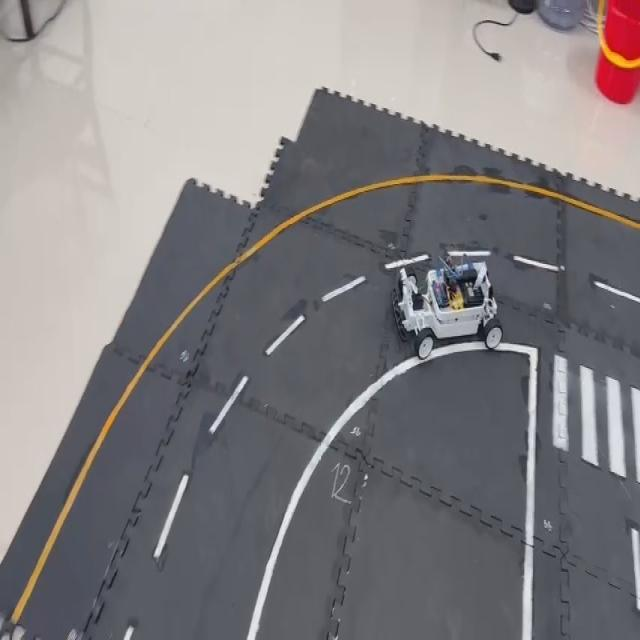SiCo-CAR: (389, 250, 504, 362)
